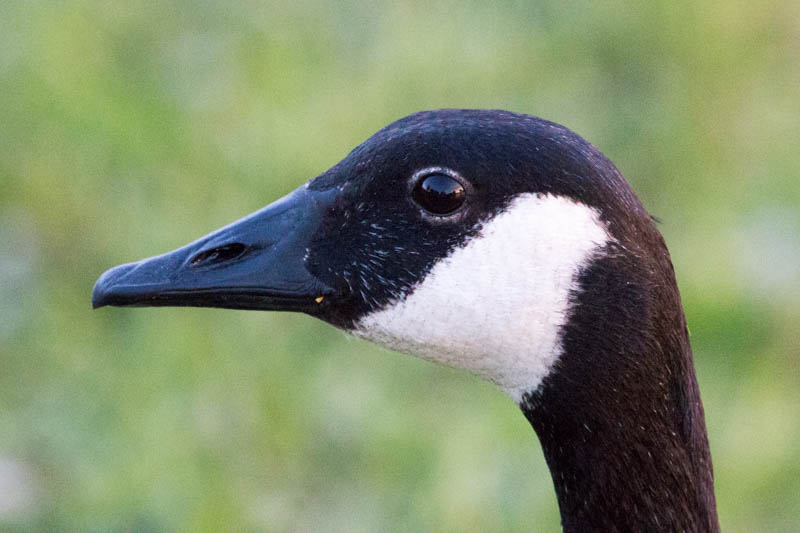goose-head: (91, 108, 668, 413)
